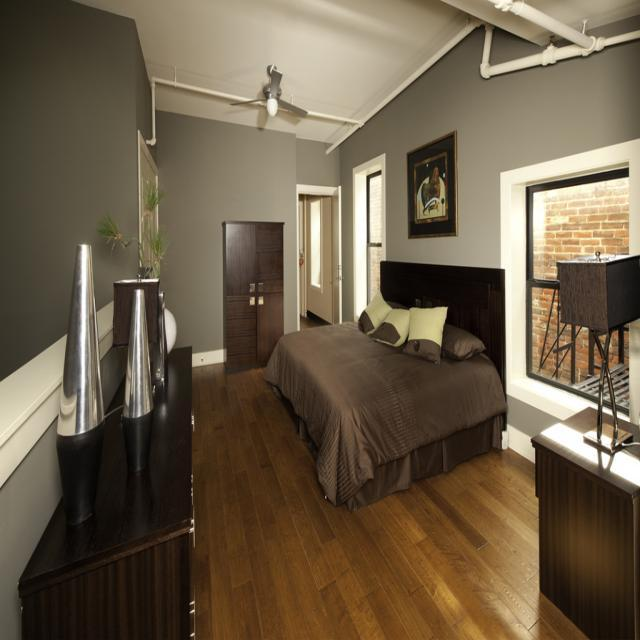bulb_off: (260, 95, 284, 125)
fan_off: (238, 59, 306, 133)
